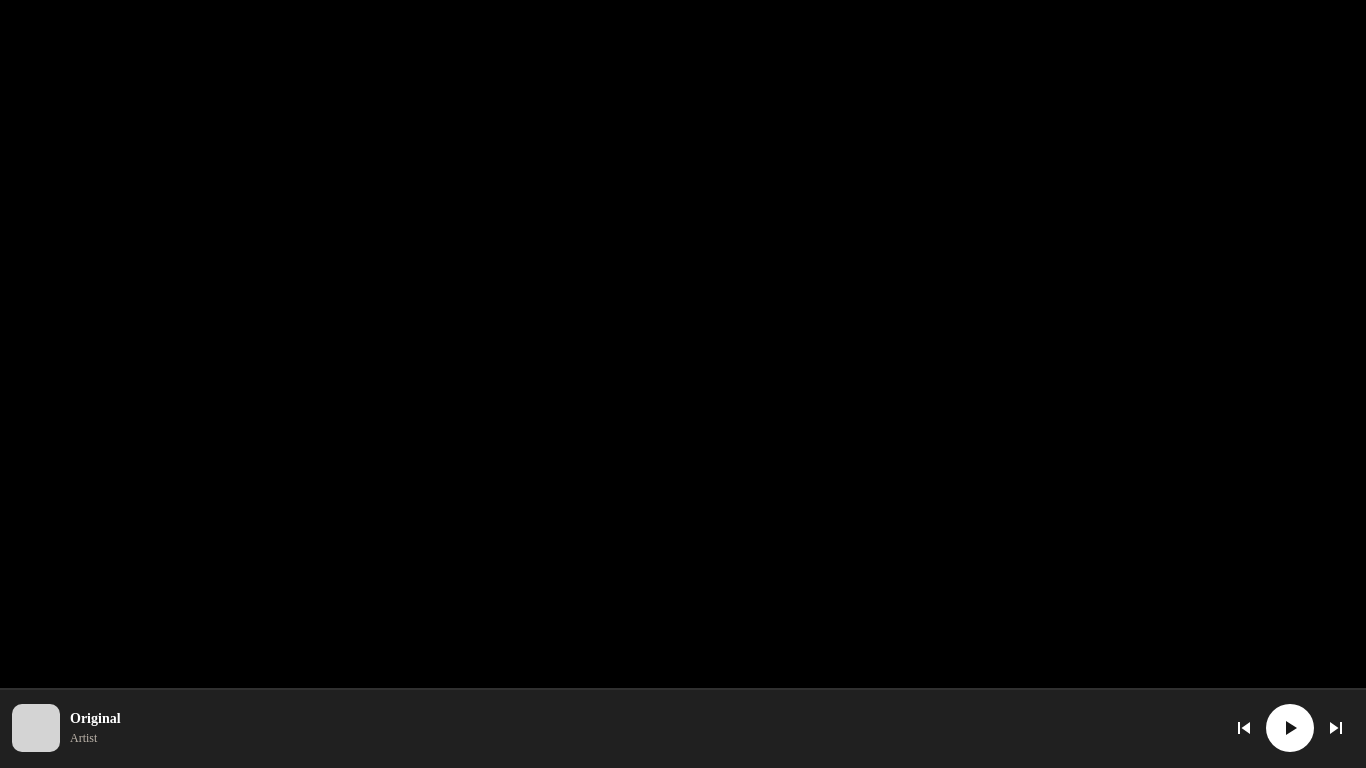
the mobile full player traps controls only while open and can collapse without stopping audio
Click the button with aria-label "Open player for Original" at (36, 728), box top-left (12, 696), bottom-right (1218, 760)
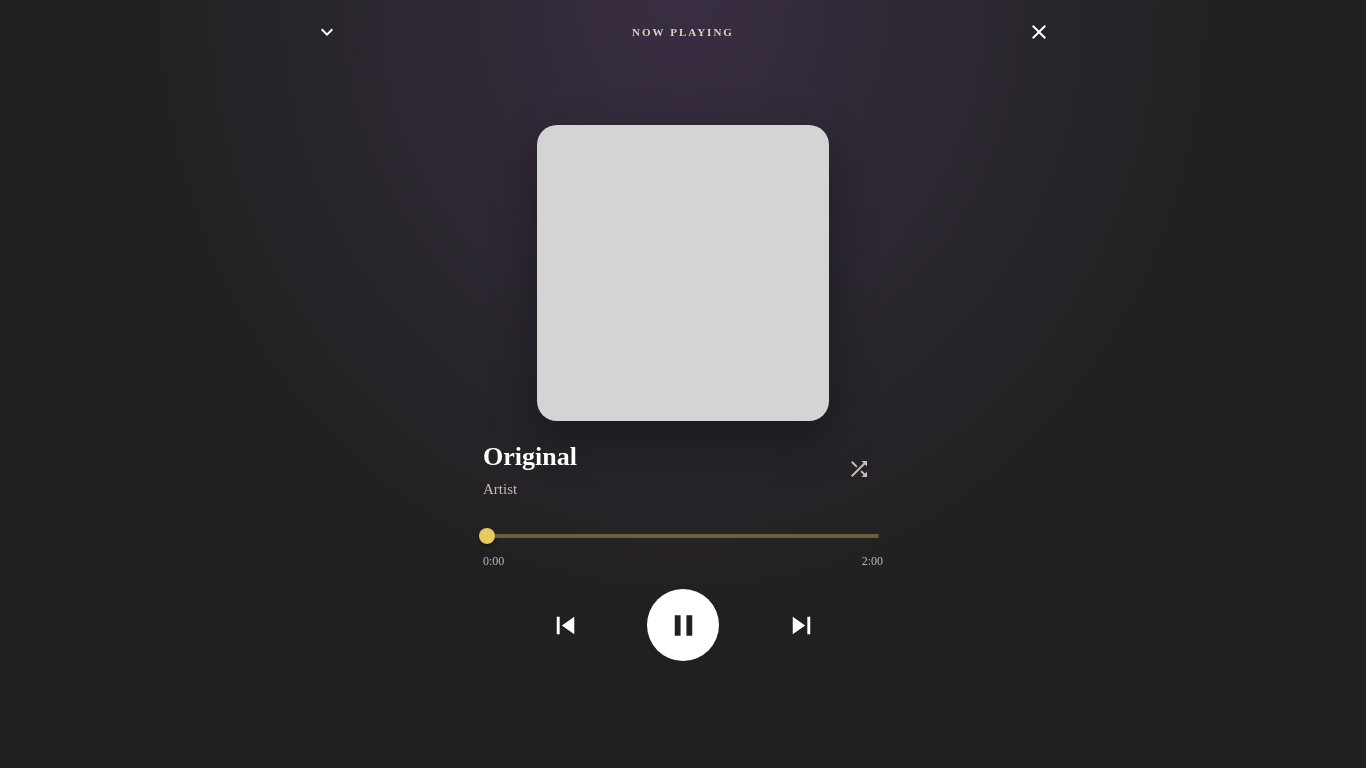
Result: the slider named "Playback position" is shown at top-left (479, 528), bottom-right (495, 544)
Click the button named "Collapse player" at (327, 32), box top-left (303, 8), bottom-right (351, 56)
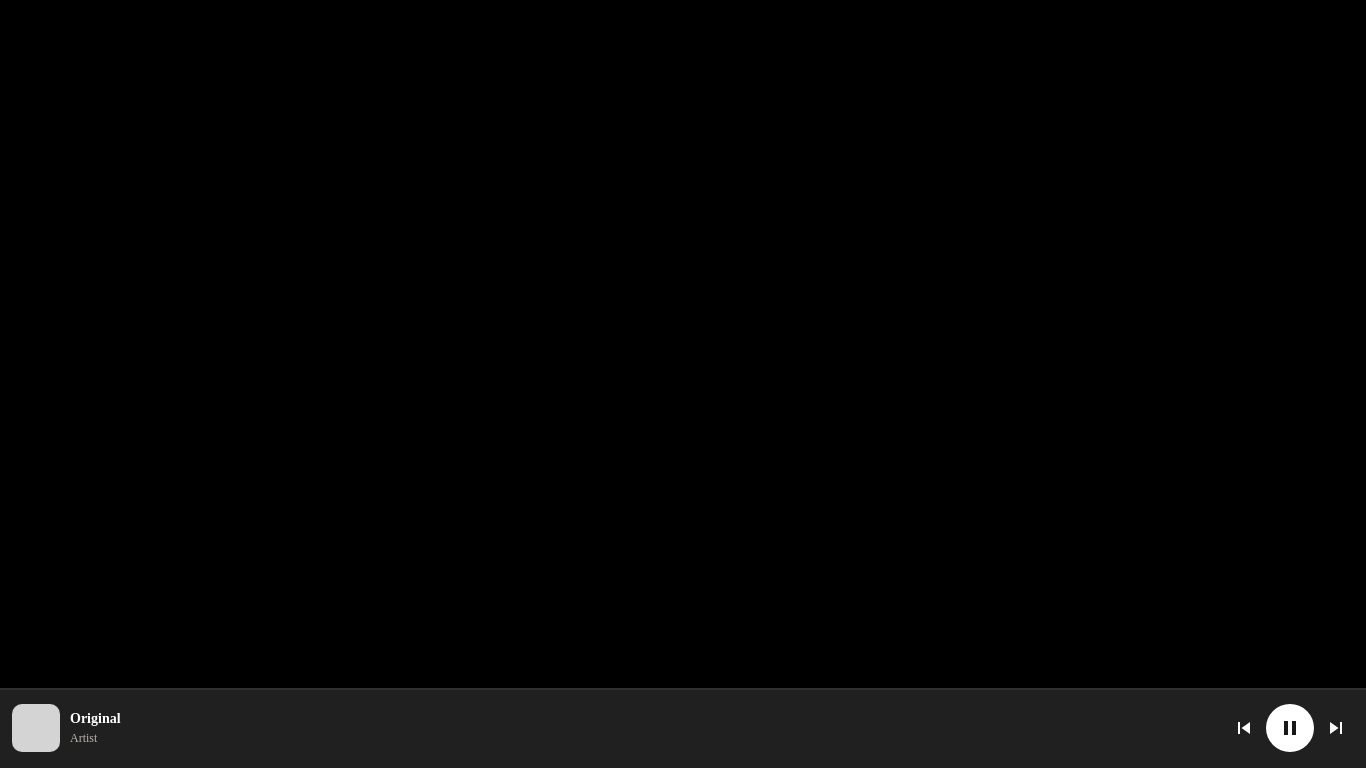
Result: the dialog is gone
